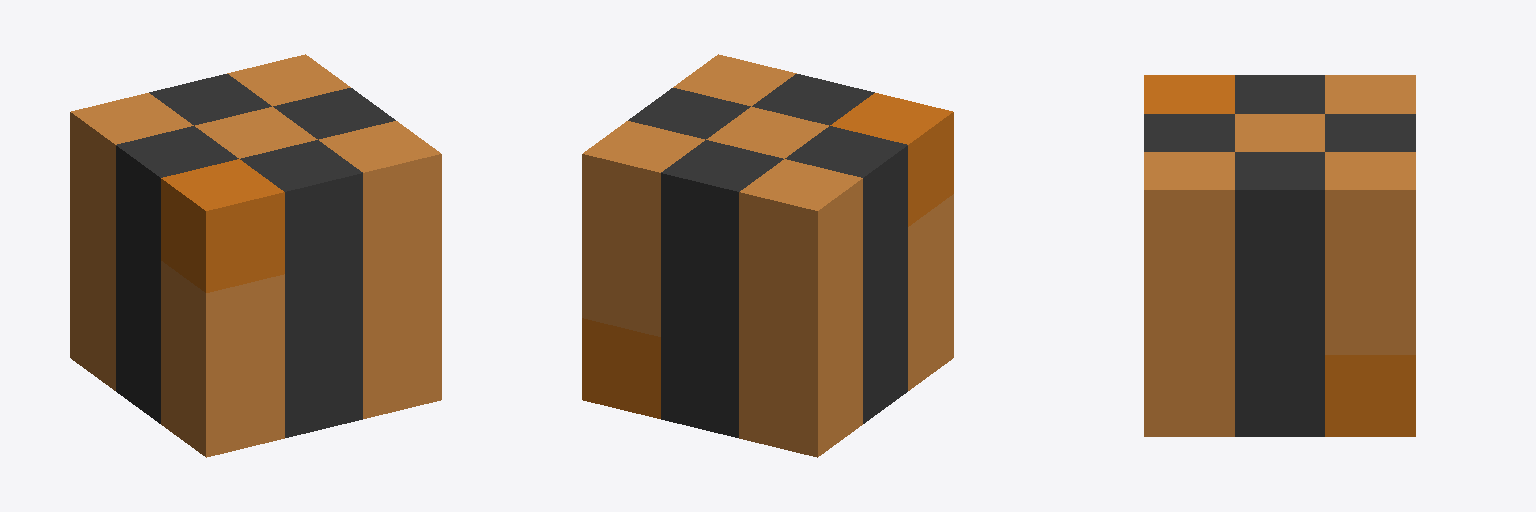
3 renders of one model, left to right at view 1: azimuth 30°, elevation 25°; view 2: azimuth 150°, elevation 25°; view 3: azimuth 270°, elevation 25°, orthographic.
Parts seen in each view (by area): view 1: Box_33; view 2: Box_33; view 3: Box_33.
Boxes of the visible parts, x1,y1,x2,y2 form: Box_33: [70, 54, 441, 457]; Box_33: [582, 54, 953, 457]; Box_33: [1144, 75, 1415, 436].
Size of the model in its own units: 3 by 3 by 3.
Materials: 1 (1 with a texture image).